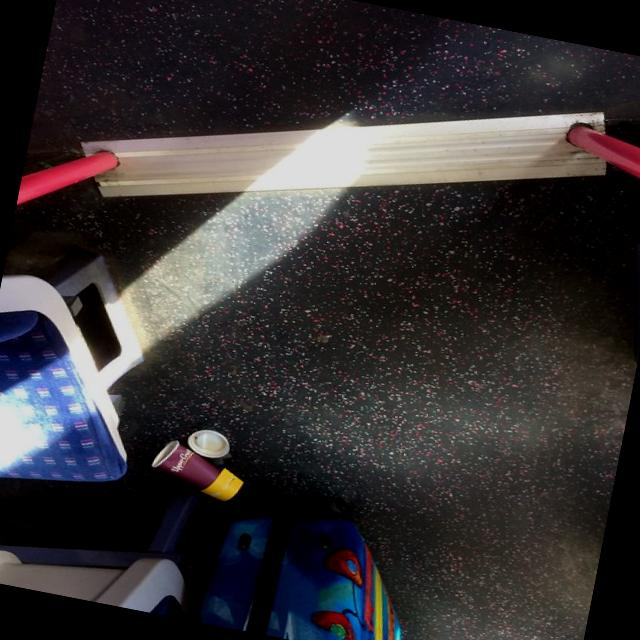Recycle: (130, 414, 278, 516)
